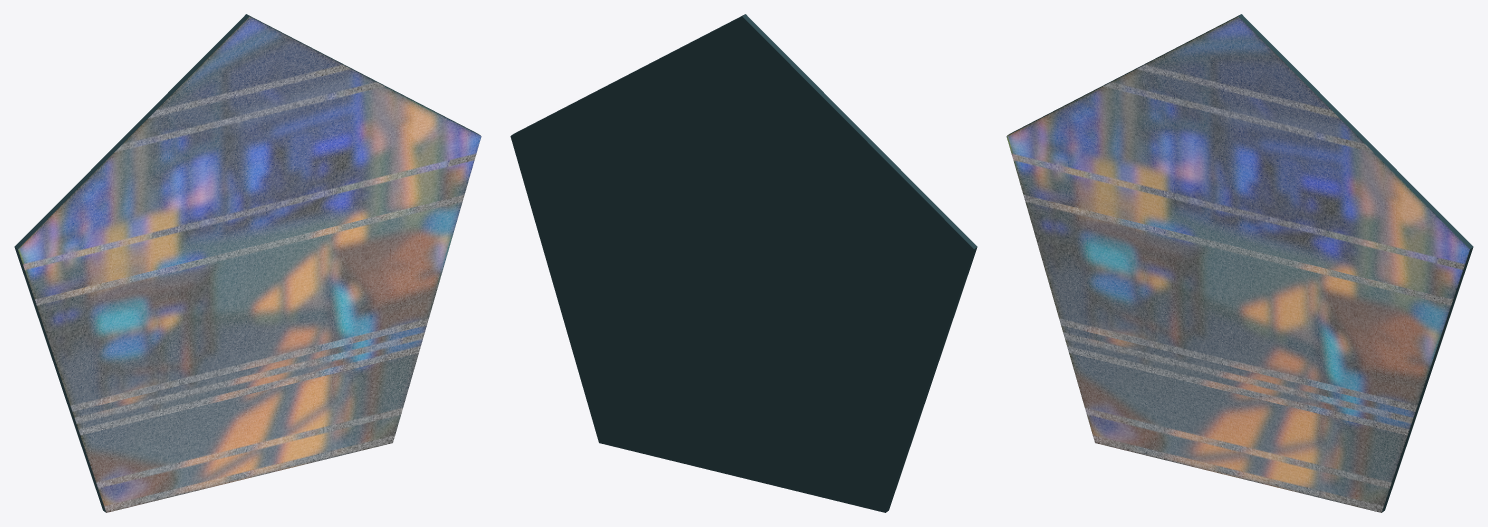
Rendered from 02_五边形_模糊雪花错误信号_十片可拆.glb.
The picture shows the model from 3 angles, left to right: view 1: azimuth 30°, elevation 25°; view 2: azimuth 150°, elevation 25°; view 3: azimuth 330°, elevation 25°; orthographic projection.
Parts seen in each view (by area): view 1: Piece_09, Piece_10, Piece_07, Piece_08, Piece_01, Piece_02, Piece_05, Piece_06, Piece_03, Piece_04; view 2: Piece_09, Piece_10, Piece_07, Piece_08, Piece_01, Piece_02, Piece_05, Piece_06, Piece_03, Piece_04; view 3: Piece_02, Piece_01, Piece_04, Piece_03, Piece_10, Piece_09, Piece_06, Piece_05, Piece_08, Piece_07.
Part boxes in pixels (box(x1,y1,x2,y2)): Piece_09: box(14, 130, 249, 271); Piece_10: box(130, 14, 249, 270); Piece_07: box(59, 272, 248, 512); Piece_08: box(14, 247, 248, 380); Piece_01: box(247, 14, 365, 270); Piece_02: box(250, 74, 481, 270); Piece_05: box(249, 272, 392, 477); Piece_06: box(106, 272, 249, 512); Piece_03: box(250, 136, 481, 289); Piece_04: box(250, 271, 436, 442); Piece_09: box(742, 130, 977, 271); Piece_10: box(742, 14, 861, 270); Piece_07: box(743, 272, 932, 512); Piece_08: box(743, 247, 977, 380); Piece_01: box(626, 14, 744, 270); Piece_02: box(510, 74, 741, 270); Piece_05: box(599, 272, 742, 477); Piece_06: box(742, 272, 885, 512); Piece_03: box(510, 136, 741, 289); Piece_04: box(555, 271, 741, 442); Piece_02: box(1238, 130, 1473, 271); Piece_01: box(1238, 14, 1357, 270); Piece_04: box(1239, 272, 1428, 512); Piece_03: box(1239, 247, 1473, 380); Piece_10: box(1122, 14, 1240, 270); Piece_09: box(1006, 74, 1237, 270); Piece_06: box(1095, 272, 1238, 477); Piece_05: box(1238, 272, 1381, 512); Piece_08: box(1006, 136, 1237, 289); Piece_07: box(1051, 271, 1237, 442).
Size of the model in its own units: 2 by 1.9 by 0.025.
2 materials, 1 textured.
